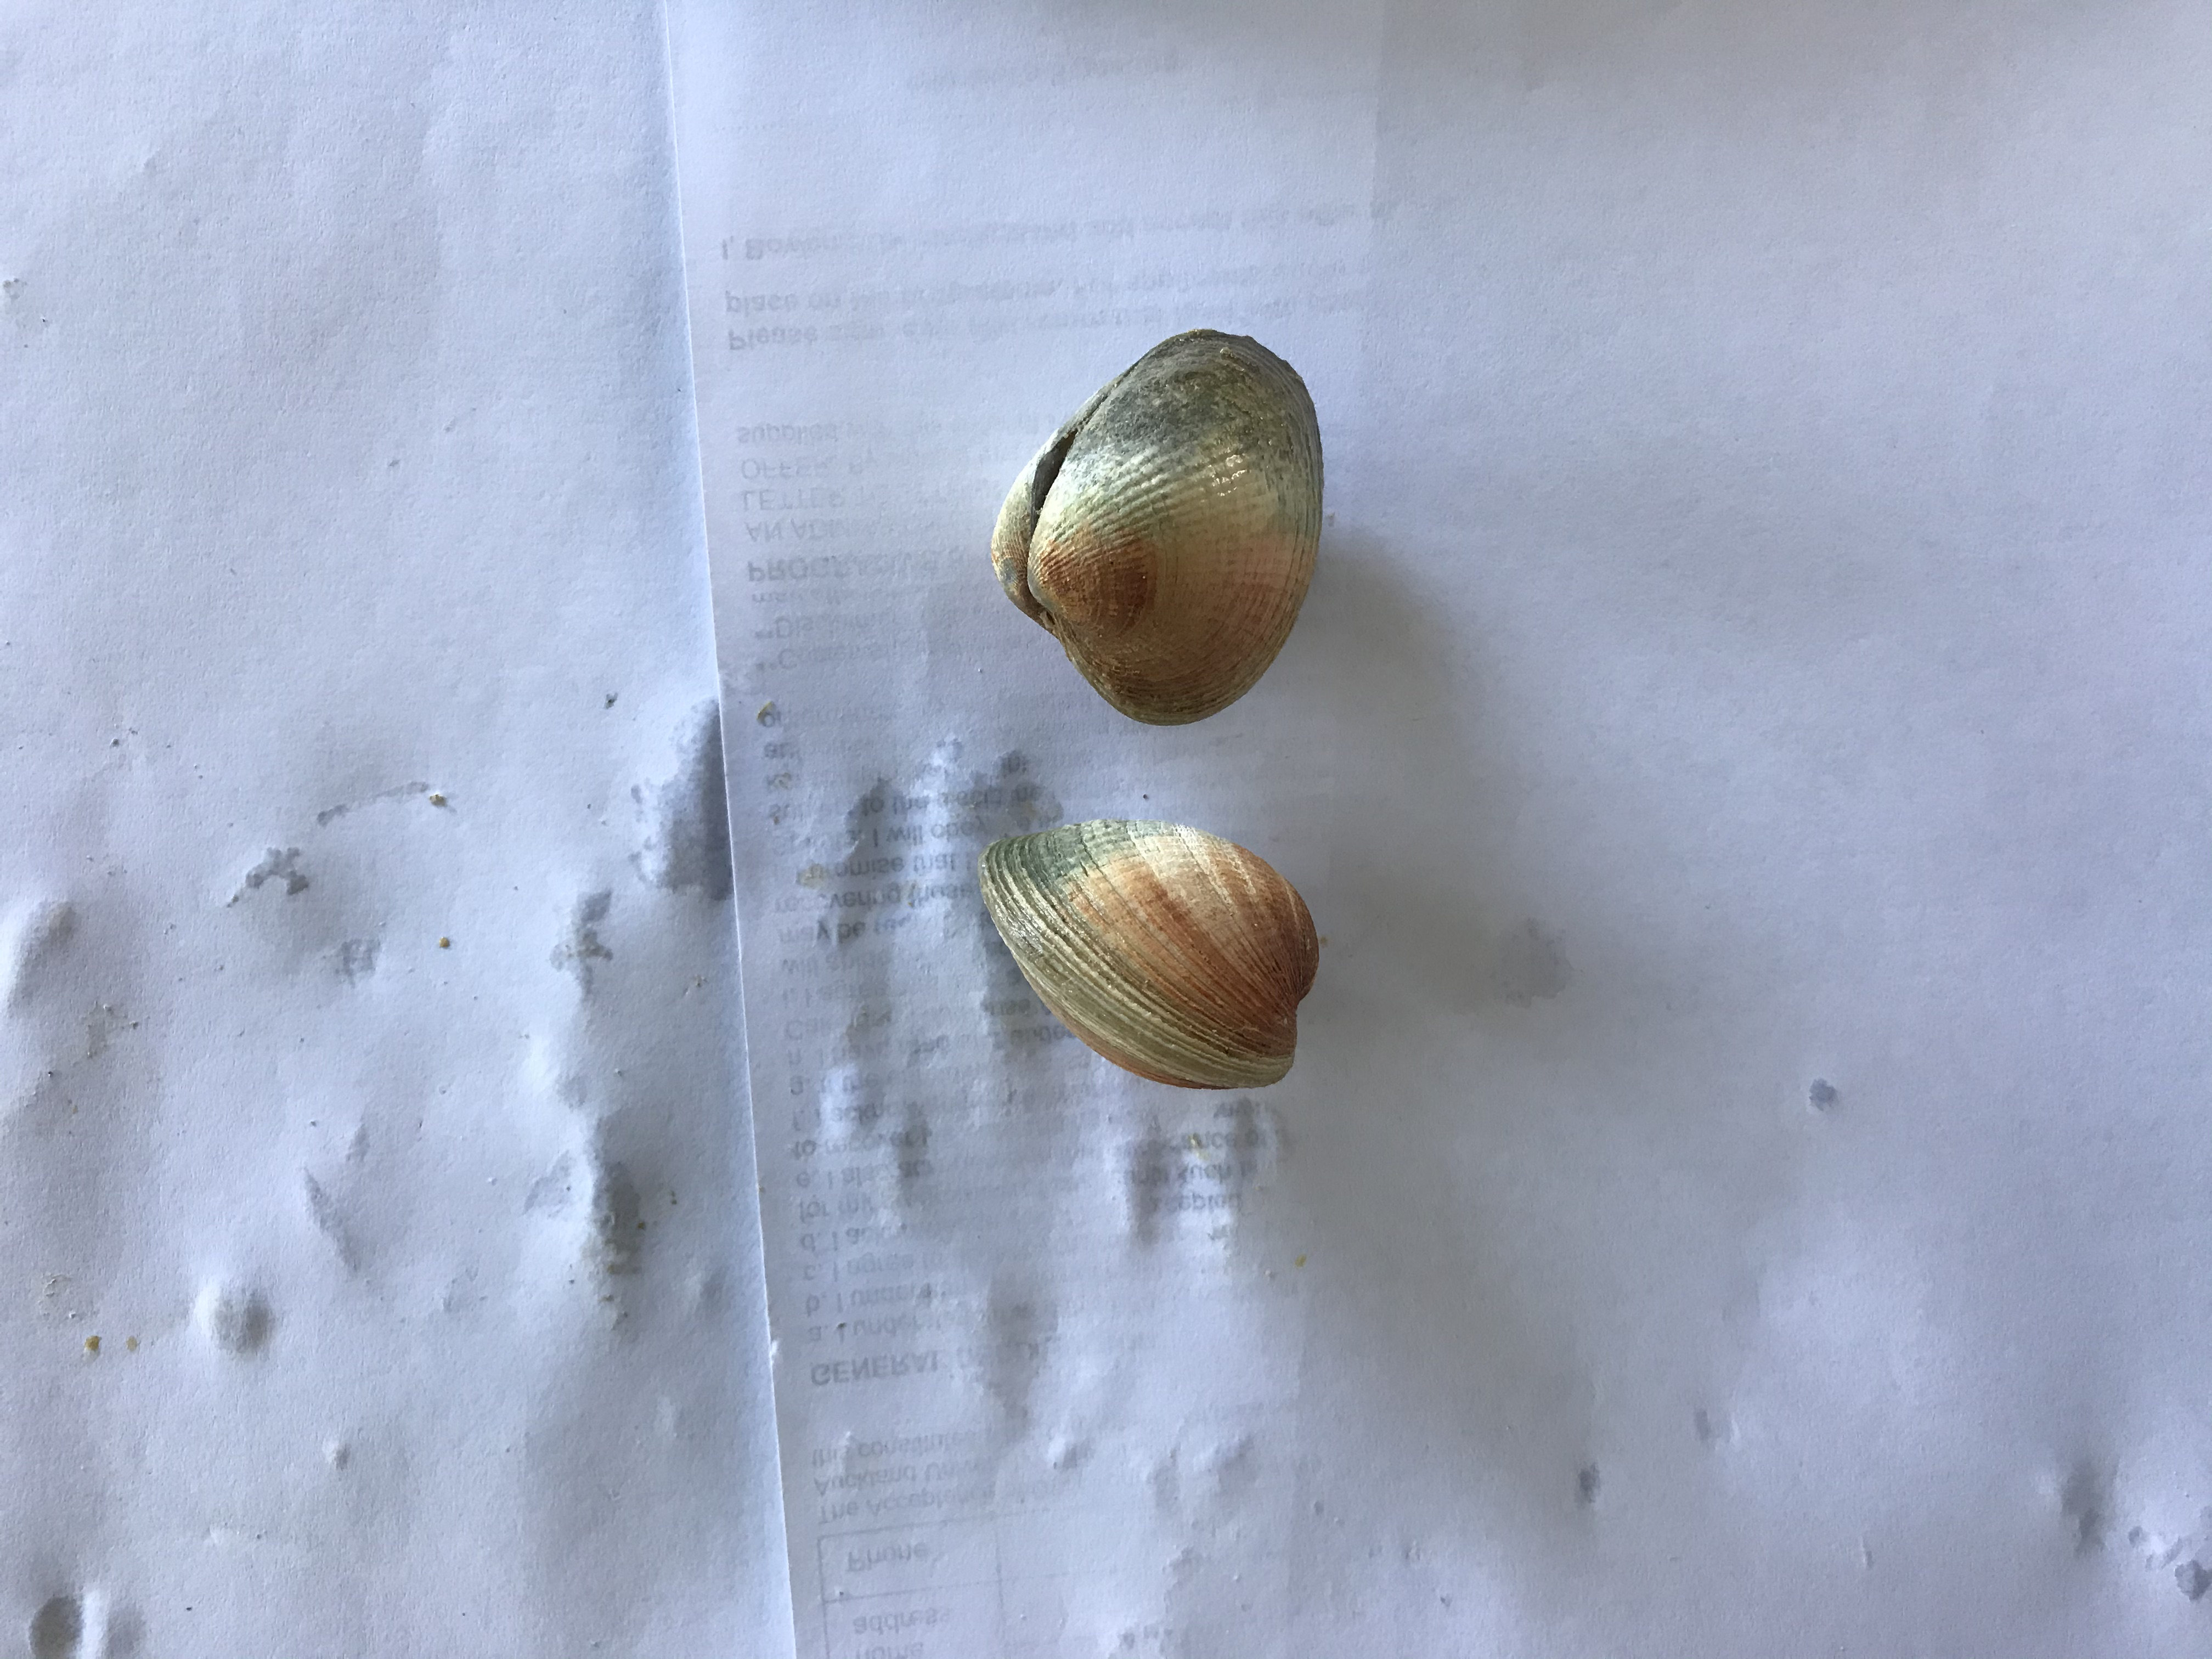cockle: (982, 328, 1331, 737), (972, 816, 1327, 1098)
